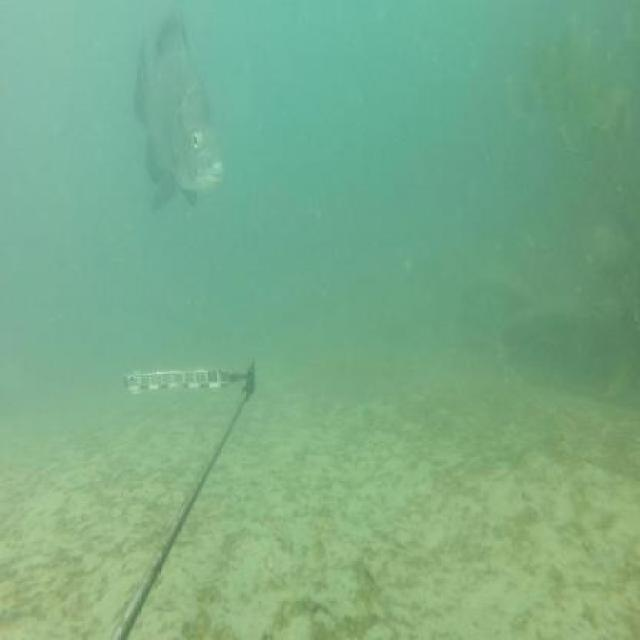acanthopagrus_palmaris: (133, 13, 225, 222)
